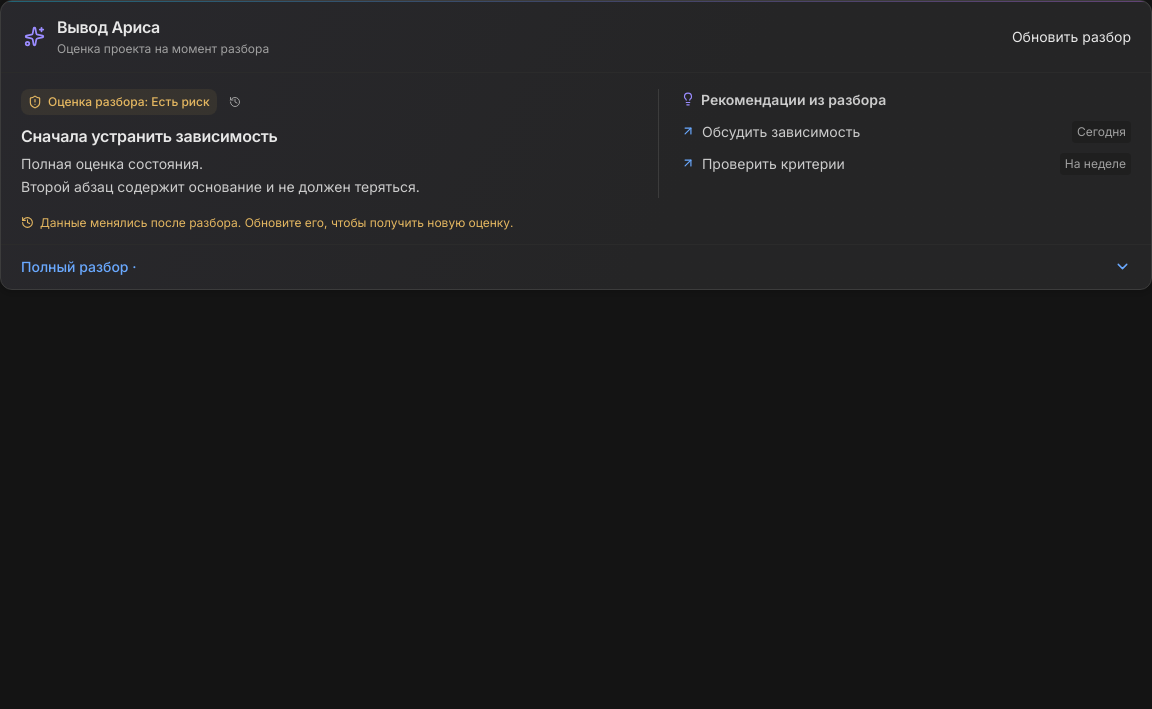
Test: сохраняет нужный контекст проекта в пунктах разбора PROJECT
Click the heading "Полный разбор ·" at x=79, y=267, box 21,258 -> 1131,276
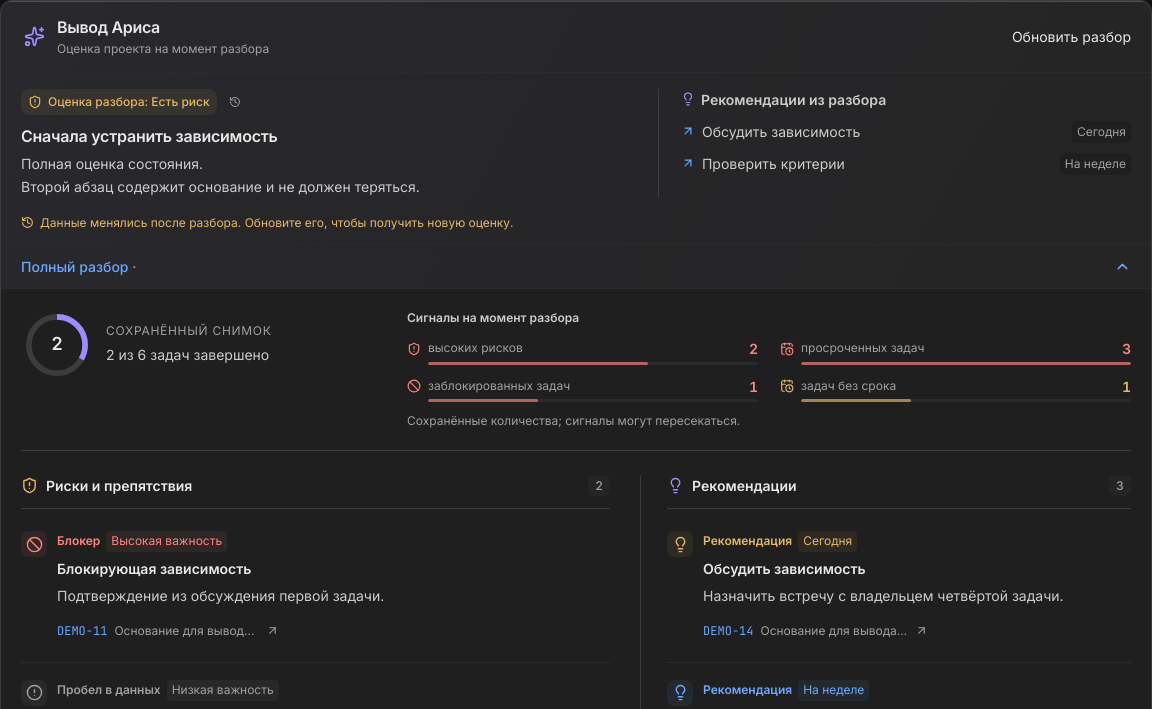
Result: the button "DEMO-11 Основание для вывода 11" is shown at 52,617 -> 284,645
